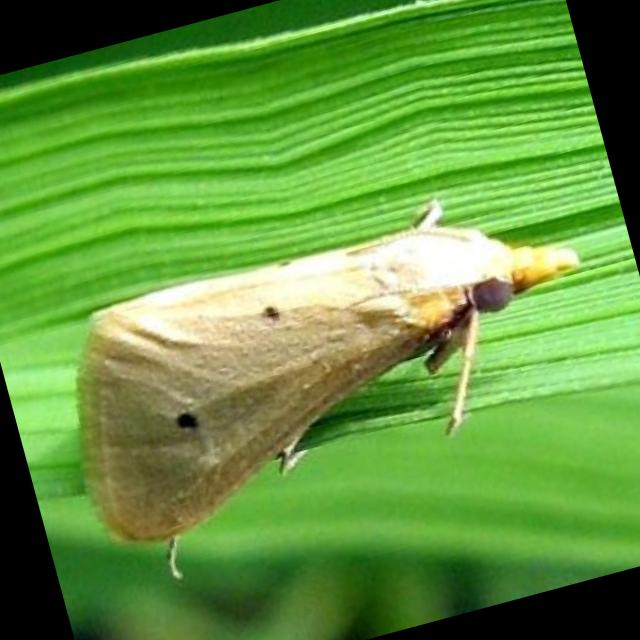stem-borer: (28, 162, 634, 596)
